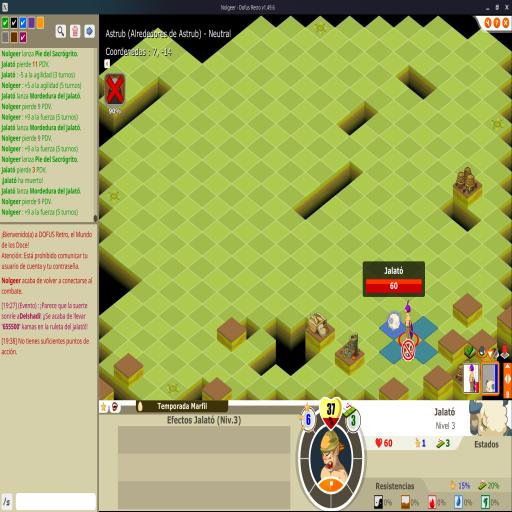Enemigos: (387, 312, 401, 332)
Personaje: (404, 299, 414, 339)
